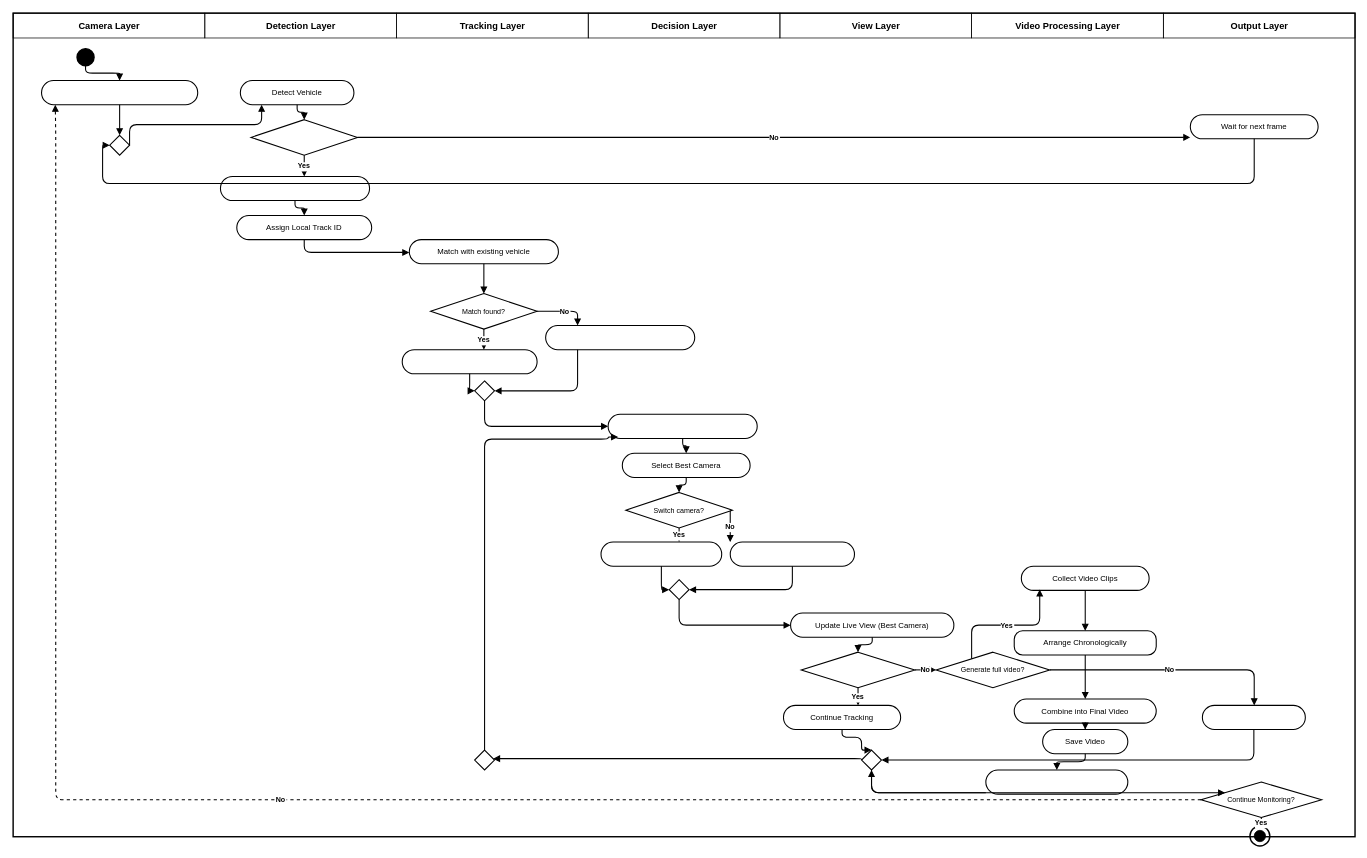
Some shapes in this 1367 by 858 pixel diagram are drawn without their labels. The shapes that lost their labels are listed below. From the top down, each one's box as (x1, y1, x2, y2) in pixels, then its label:
(41, 80, 198, 105): Capture video stream (C1, C2, ...)
(250, 119, 358, 155): Vehicle detected?
(220, 176, 370, 201): Extract Features (Color, Model)
(545, 325, 695, 350): Create New Global Vehicle ID
(401, 349, 537, 374): Assign Global Vehicle ID
(607, 413, 757, 439): Score all active cameras
(600, 541, 722, 566): Switch Camera Feed
(729, 541, 855, 566): Keep Current Camera
(800, 651, 915, 688): Vehicle still visible?
(1202, 705, 1306, 730): End Tracking
(985, 769, 1128, 794): Send Email Notification
